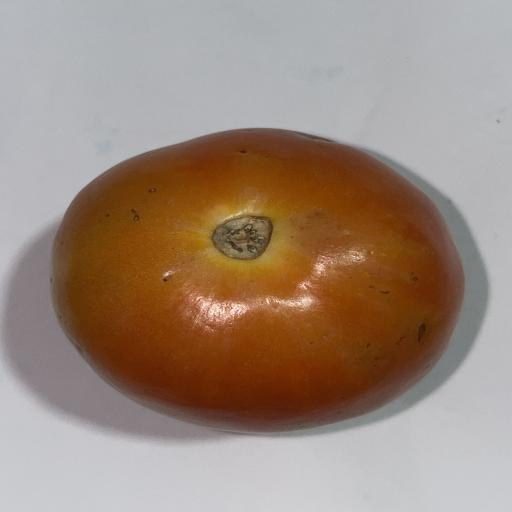ripe: (50, 128, 464, 432)
